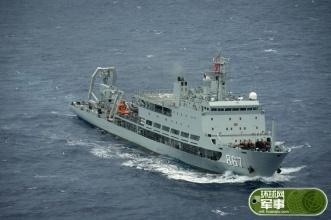warship: (70, 47, 291, 176)
